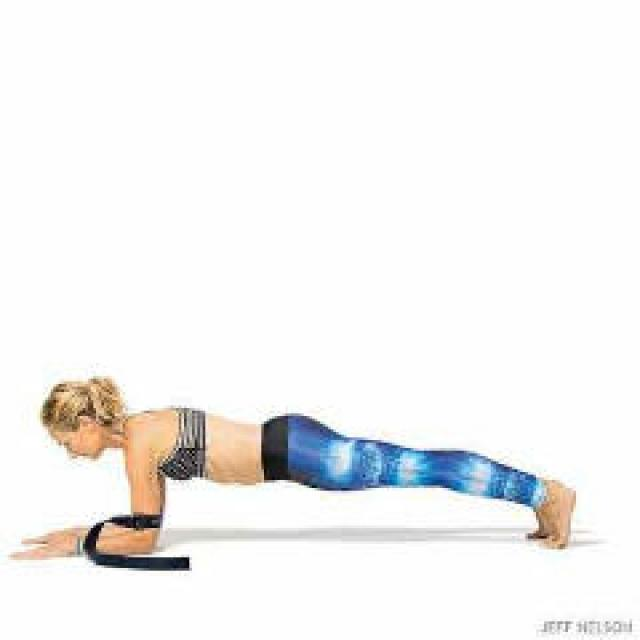yoga-pose plank: (16, 370, 580, 554)
